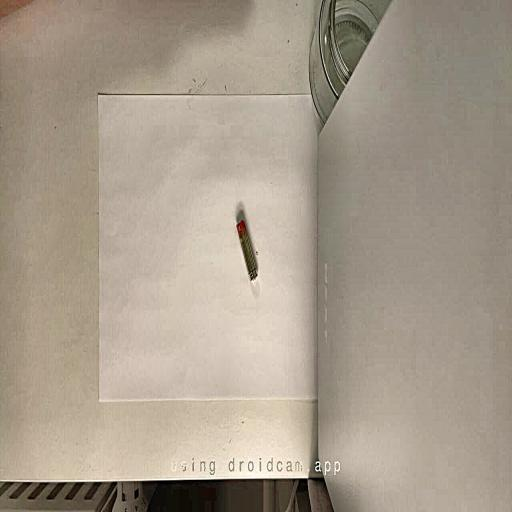PanasonicAAA: (237, 220, 257, 280)
